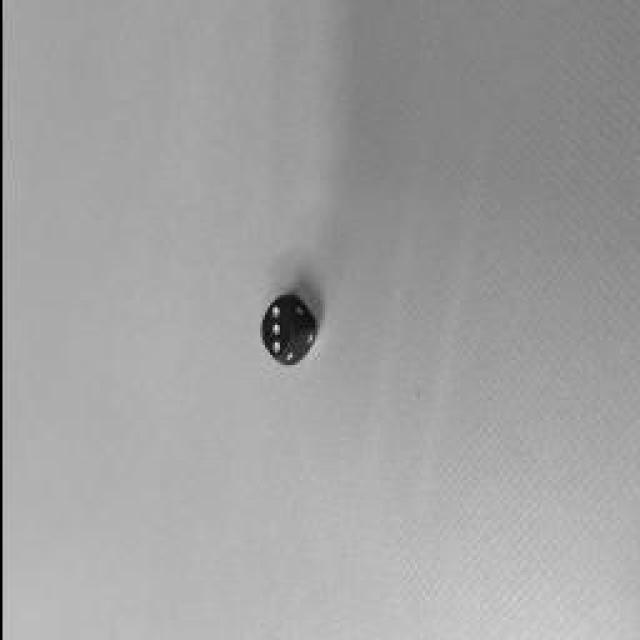dice_3: (259, 300, 291, 358)
